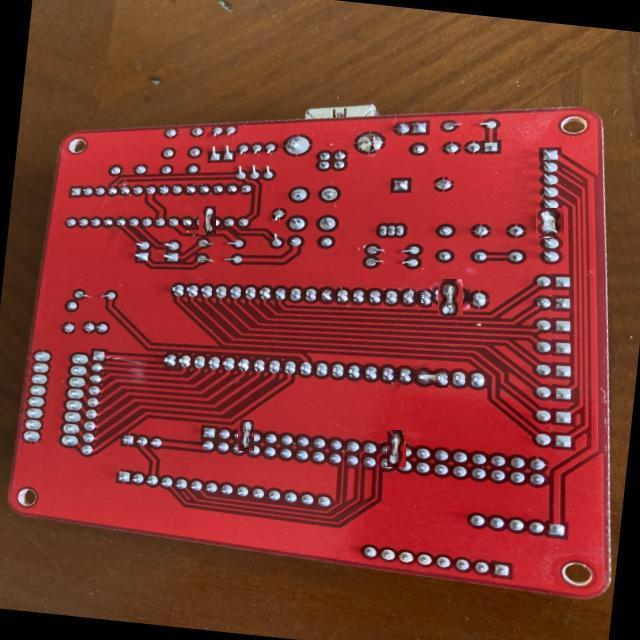damged: (435, 282, 467, 313), (536, 208, 564, 238), (382, 435, 411, 463), (414, 365, 448, 388), (234, 423, 258, 448), (196, 209, 219, 232)
